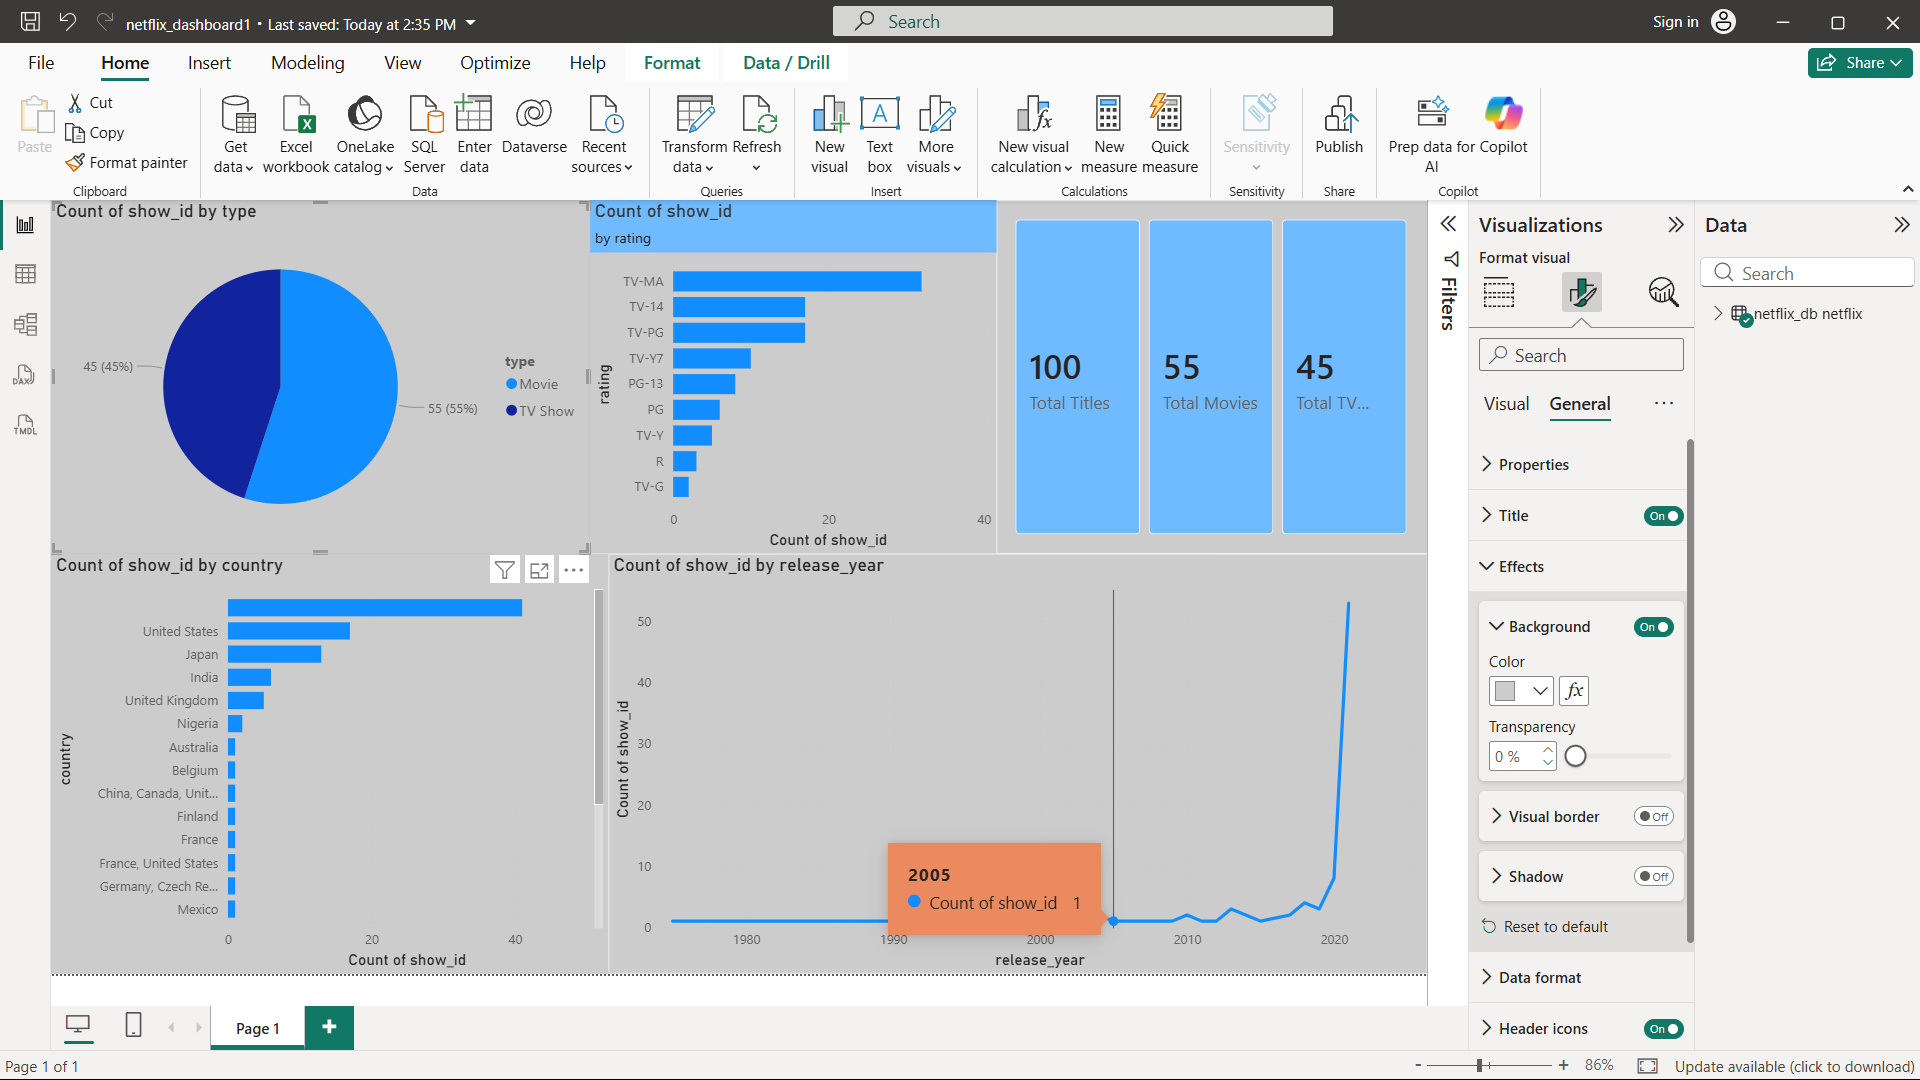

What the dashboard file says about the page in this screenshot:
{"tool":"powerbi","page":{"name":"Page 1","canvas":[1280,720],"ordinal":0},"visuals":[{"type":"pieChart","fields":{"Category":["netflix_db netflix.type"],"Y":["CountNonNull(netflix_db netflix.show_id)"]},"box":[0,0,501.4,328.6],"z":0},{"type":"lineChart","fields":{"Category":["netflix_db netflix.release_year"],"Y":["CountNonNull(netflix_db netflix.show_id)"]},"box":[518.6,328.6,761.4,391.4],"z":1000},{"type":"barChart","fields":{"Category":["netflix_db netflix.country"],"Y":["CountNonNull(netflix_db netflix.show_id)"]},"box":[0,328.6,518.6,391.4],"z":2000},{"type":"barChart","fields":{"Category":["netflix_db netflix.rating"],"Y":["CountNonNull(netflix_db netflix.show_id)"]},"box":[501.4,0,378.6,328.6],"z":3000},{"type":"cardVisual","fields":{"Data":["netflix_db netflix.Total Titles","netflix_db netflix.Total Movies","netflix_db netflix.Total TV Shows"]},"box":[880,1.4,400,327.1],"z":4000}]}

Visuals, with their boxes on the page's 1280x720 design canvas (x1, y1, x2, y2). These are canvas units, not pixel positions in the 1920x1080 screenshot, which may show the page scaled, cropped or inside an application window:
pieChart - netflix_db netflix.type x CountNonNull(netflix_db netflix.show_id): left=0, top=0, right=501, bottom=329
lineChart - netflix_db netflix.release_year x CountNonNull(netflix_db netflix.show_id): left=519, top=329, right=1280, bottom=720
barChart - netflix_db netflix.country x CountNonNull(netflix_db netflix.show_id): left=0, top=329, right=519, bottom=720
barChart - netflix_db netflix.rating x CountNonNull(netflix_db netflix.show_id): left=501, top=0, right=880, bottom=329
cardVisual - netflix_db netflix.Total Titles x netflix_db netflix.Total Movies: left=880, top=1, right=1280, bottom=328
